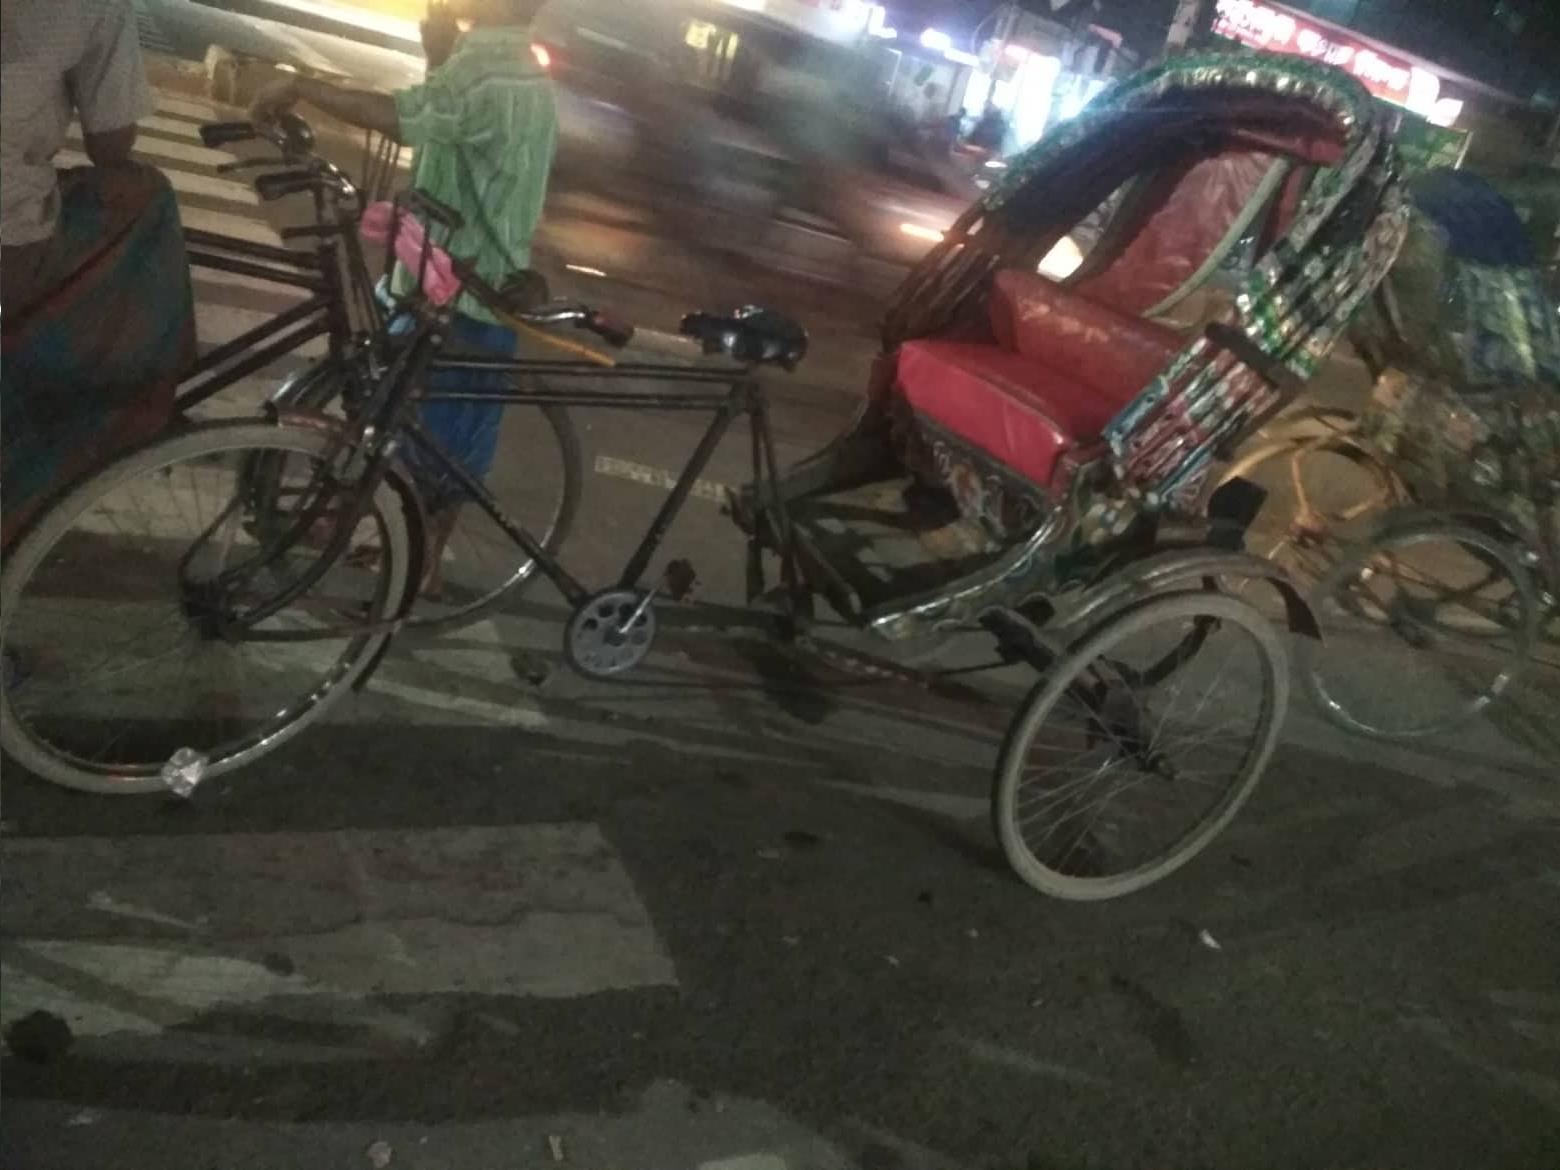Rickshaw: (22, 12, 1386, 948), (1405, 93, 1556, 757)
